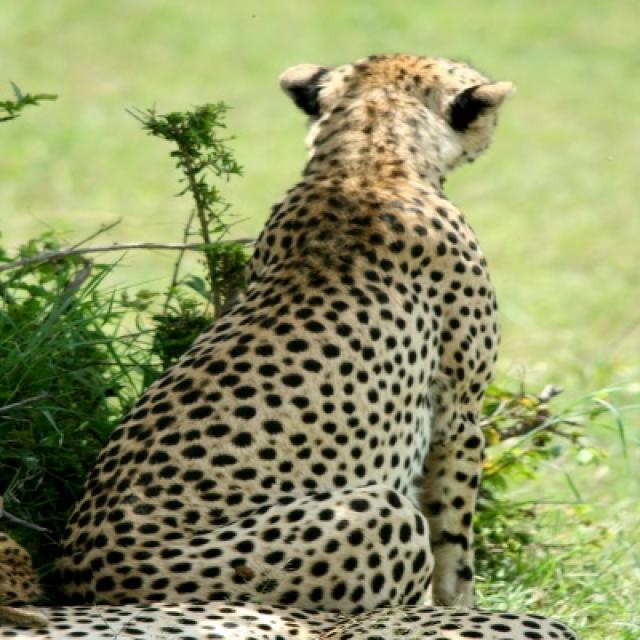Cheetah: (0, 54, 578, 638)
